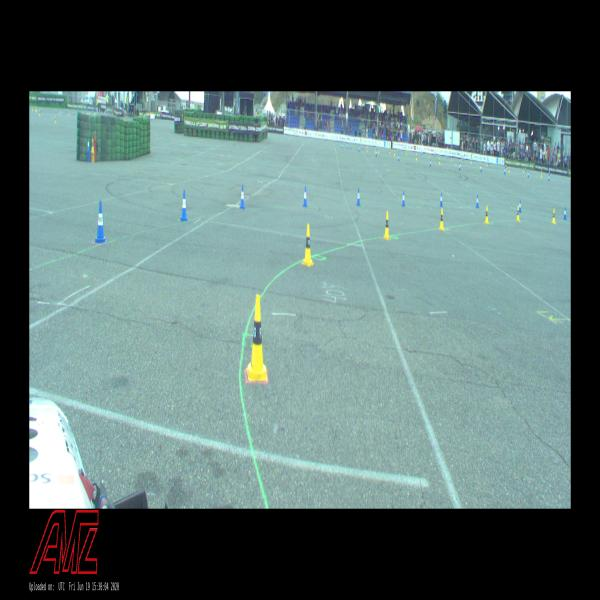blue_cone: (96, 201, 106, 242), (180, 190, 188, 221), (240, 184, 245, 209), (303, 186, 307, 207), (357, 188, 360, 205), (402, 190, 405, 207), (476, 194, 479, 208), (440, 192, 442, 206), (564, 207, 566, 220), (520, 200, 522, 212), (358, 144, 360, 152), (504, 166, 506, 174), (480, 164, 482, 172), (527, 170, 529, 178), (346, 143, 348, 149), (430, 158, 431, 167), (376, 149, 377, 157), (459, 162, 460, 170), (398, 154, 399, 161), (434, 151, 435, 157), (398, 147, 399, 152)
yellow_cone: (247, 295, 267, 381), (303, 224, 312, 266), (384, 211, 389, 239), (439, 208, 444, 230), (485, 205, 489, 224), (552, 208, 556, 224), (516, 206, 520, 221), (508, 166, 510, 173), (374, 146, 376, 152), (366, 146, 368, 152), (394, 148, 395, 156), (416, 152, 417, 160), (541, 169, 542, 177), (55, 115, 56, 123), (439, 157, 440, 164), (523, 166, 524, 173), (389, 148, 390, 154), (378, 147, 379, 153), (39, 109, 40, 115)
